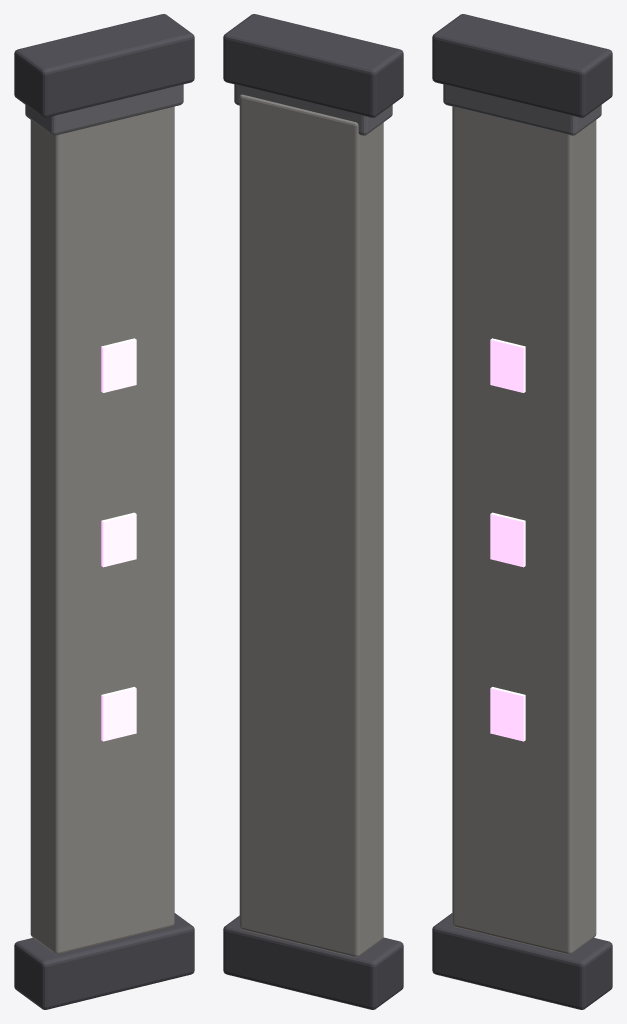
File: pilaster_rune.glb
3 renders of one model, left to right at view 1: azimuth 30°, elevation 25°; view 2: azimuth 150°, elevation 25°; view 3: azimuth 330°, elevation 25°, orthographic.
Parts seen in each view (by area): view 1: GD_pilaster_rune__m1, GD_pilaster_rune__m0, GD_pilaster_rune__m3, GD_pilaster_rune__m2; view 2: GD_pilaster_rune__m1, GD_pilaster_rune__m0, GD_pilaster_rune__m2; view 3: GD_pilaster_rune__m1, GD_pilaster_rune__m0, GD_pilaster_rune__m3, GD_pilaster_rune__m2.
Part boxes in pixels (x1,y1,x2,y2): GD_pilaster_rune__m1: [30, 106, 174, 954]; GD_pilaster_rune__m0: [14, 14, 194, 1009]; GD_pilaster_rune__m3: [101, 338, 136, 741]; GD_pilaster_rune__m2: [25, 84, 183, 135]; GD_pilaster_rune__m1: [239, 94, 383, 957]; GD_pilaster_rune__m0: [223, 14, 403, 1009]; GD_pilaster_rune__m2: [234, 84, 392, 135]; GD_pilaster_rune__m1: [452, 106, 596, 954]; GD_pilaster_rune__m0: [432, 14, 612, 1009]; GD_pilaster_rune__m3: [490, 338, 525, 741]; GD_pilaster_rune__m2: [443, 84, 601, 135].
Bounding box in the file's own units: 0.46 × 2.7 × 0.16.
